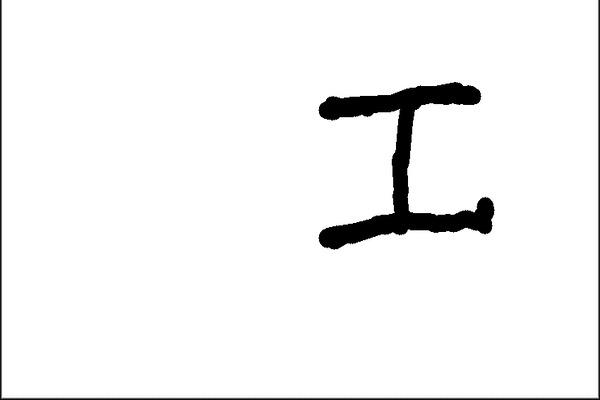i: (305, 81, 503, 243)
